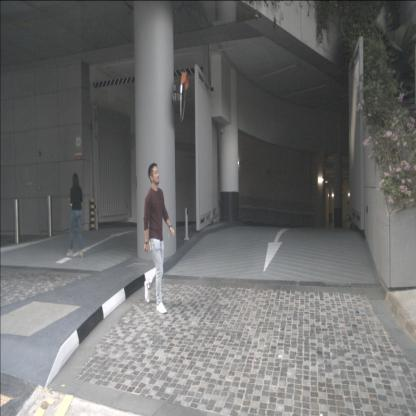human-pedestrian-adult: (144, 163, 174, 313), (66, 173, 84, 256)
